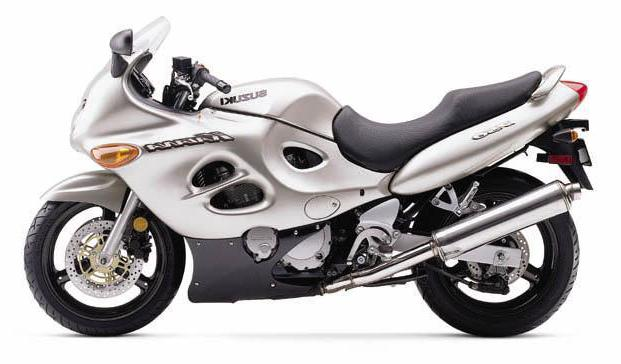motorcycle: (2, 7, 609, 352)
